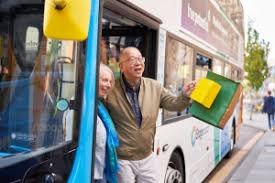bus: (1, 1, 245, 182)
